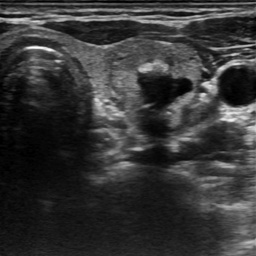mass: (111, 41, 202, 125)
